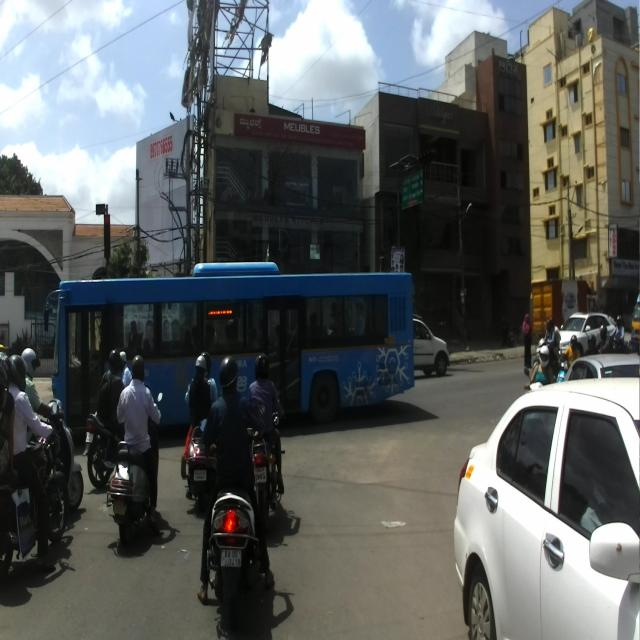Car_Maruti-Suzuki: (451, 374, 639, 639)
bus: (42, 258, 416, 449)
scooter: (199, 417, 268, 635), (103, 388, 162, 547), (184, 379, 220, 518)
